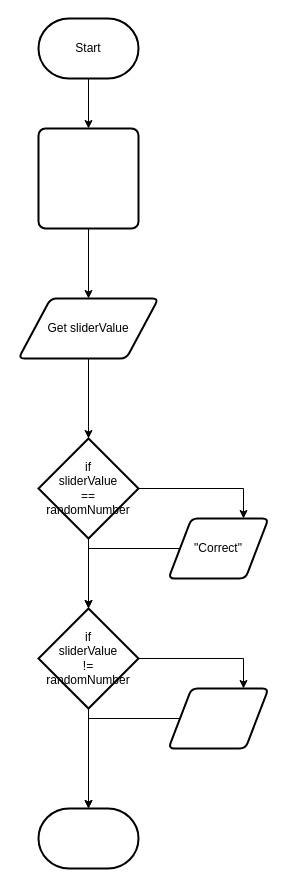
The diagram is 286 pixels wide and 886 high, and some of its shapes have lost their labels. The centre of each missing label's shape, as x and y in pixels:
"Wrong": (218,718)
Generate randomNumber: (88,178)
Stop: (88,838)
